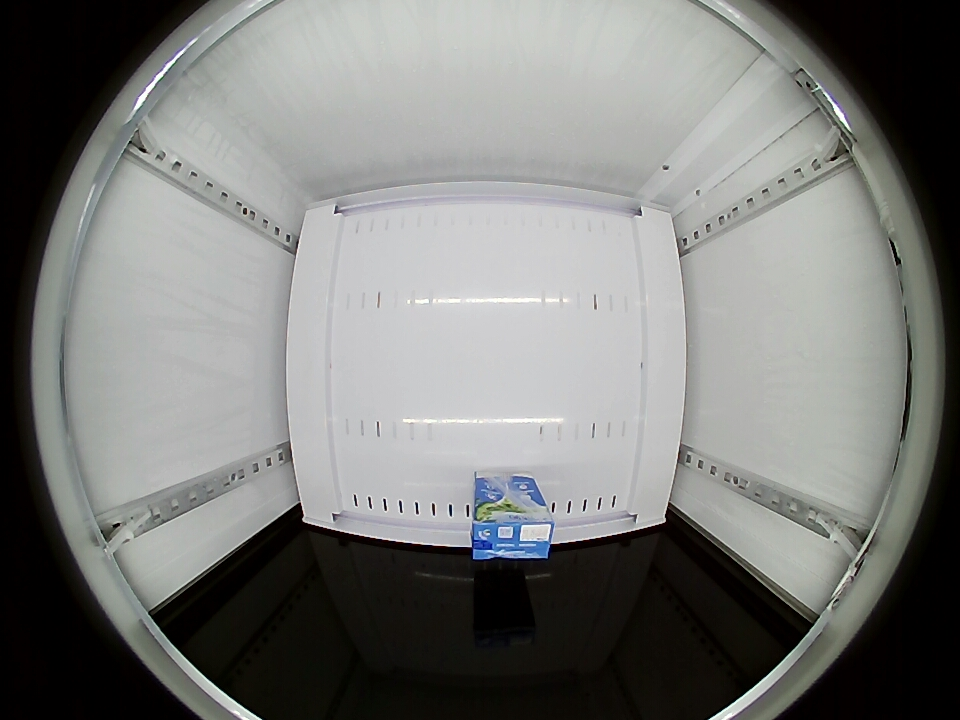weitanai: (471, 504, 555, 560)
